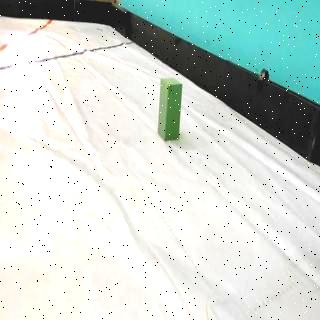greenbox: (159, 75, 184, 142)
